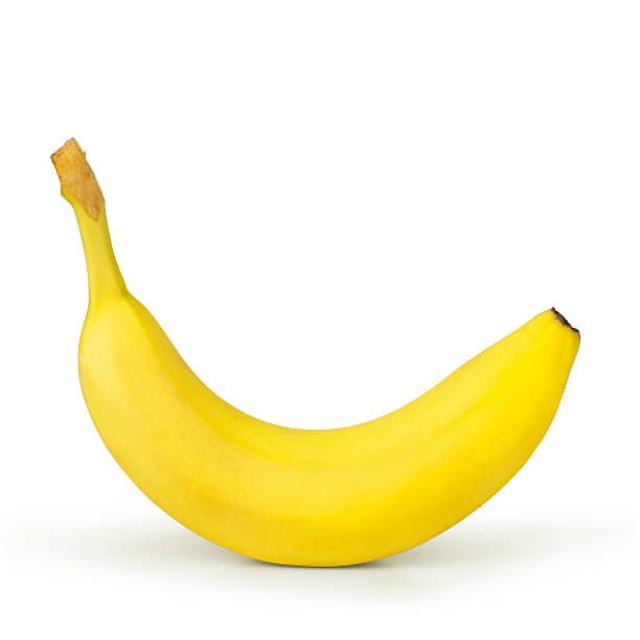Ripe: (72, 164, 584, 571)
